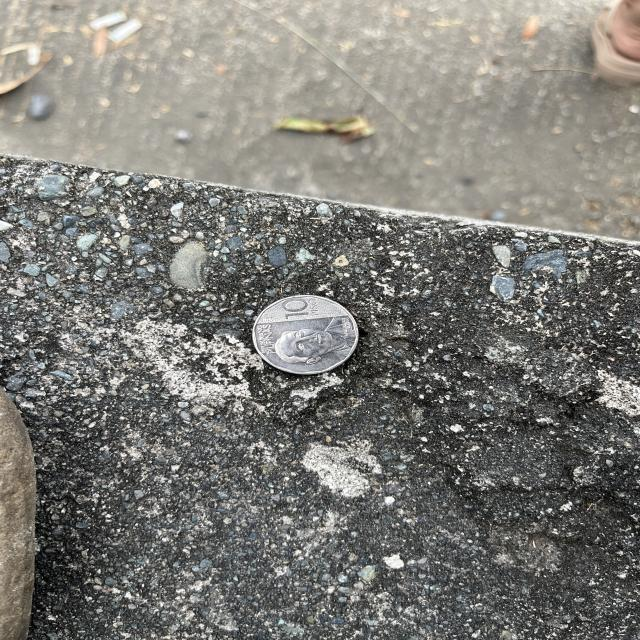10_New_Front: (270, 288, 328, 328)
